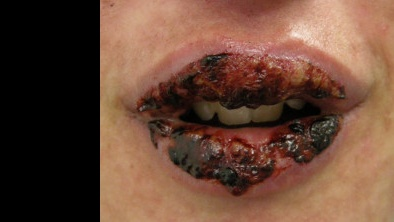SJS-TEN: (122, 0, 380, 222)
